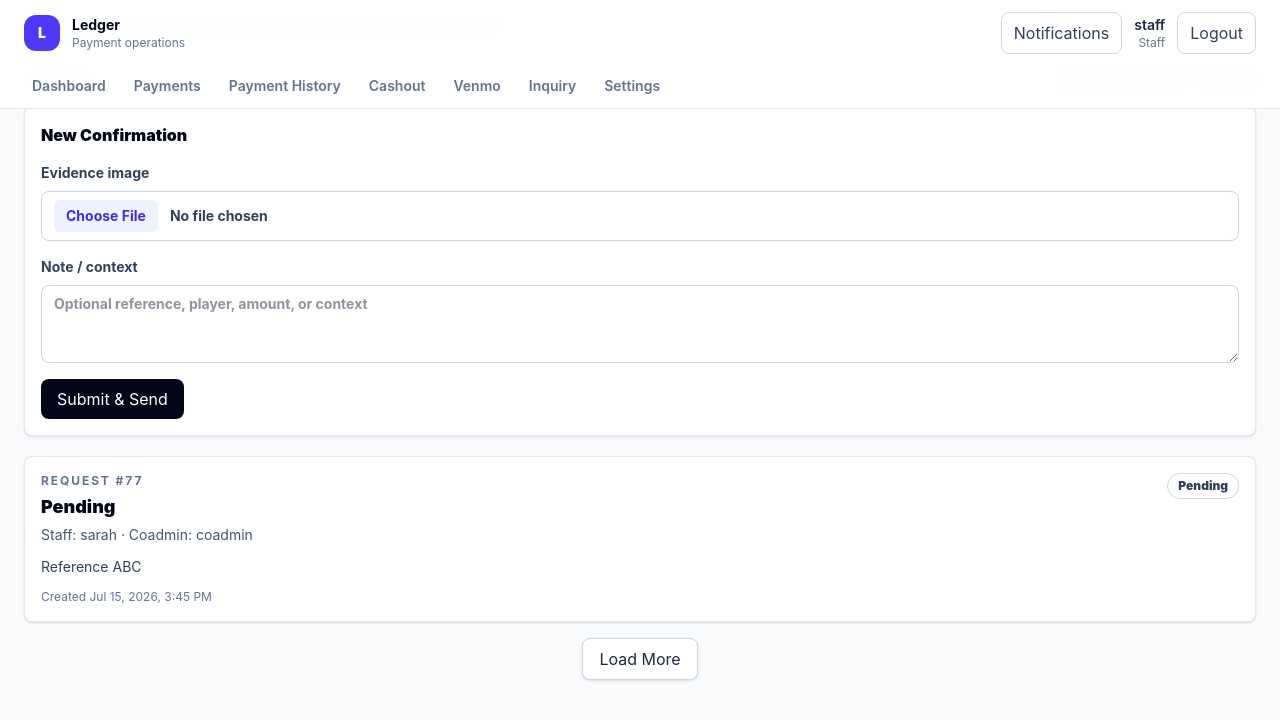
Scenario: VenmoConfirmationsPage › loads additional confirmation requests in cursor batches
(page scrolled)
Expected: the text "Request #77" is shown, [41,473,143,488]
What coordinates should you click on to do the following:
click the button "Load More"
I would click on:
 (640, 659)
Its box is [582,638,698,680].
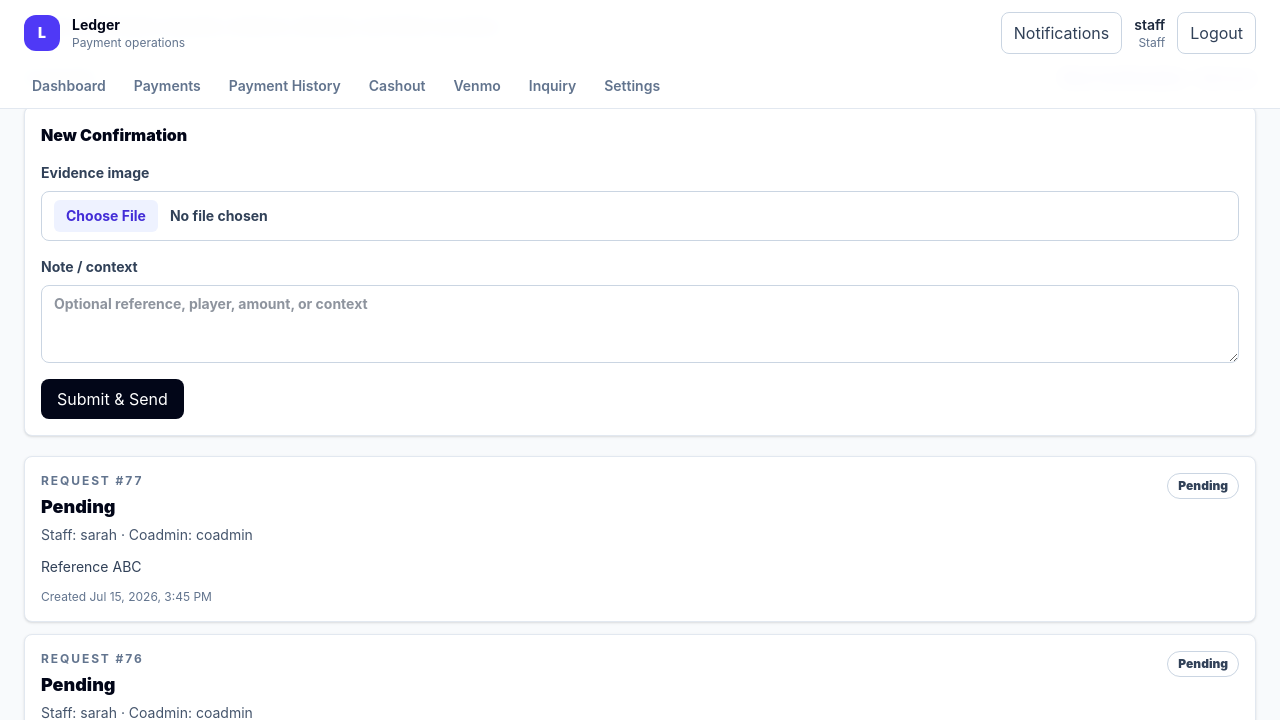
Expected: the text "Request #77" is shown once, [41,473,143,488]
Result: the text "Request #76" is shown at [41,651,144,666]
Result: the button "Load More" is gone
